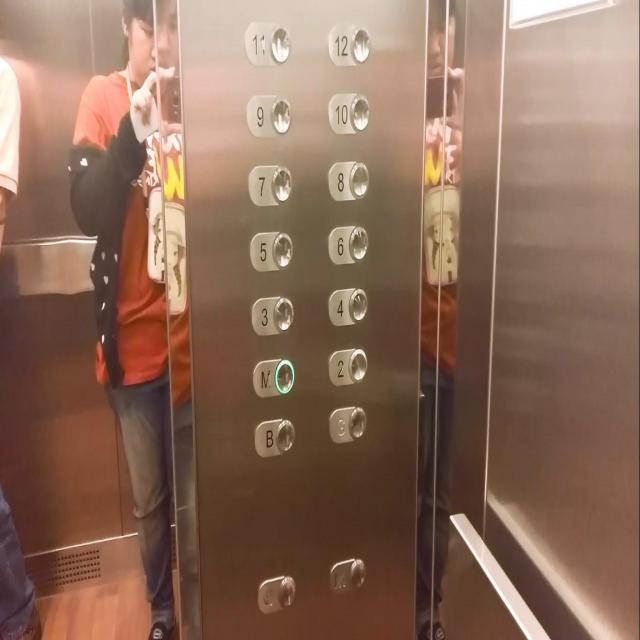10: (325, 90, 371, 137)
11: (242, 17, 292, 68)
12: (327, 18, 372, 68)
2: (325, 346, 369, 388)
3: (249, 294, 294, 338)
4: (325, 286, 369, 328)
5: (247, 228, 293, 274)
6: (325, 222, 369, 266)
7: (245, 162, 294, 208)
8: (325, 158, 370, 202)
9: (243, 91, 293, 140)
B: (252, 414, 296, 460)
G: (326, 402, 366, 447)
M: (250, 357, 295, 399)
close: (327, 556, 367, 599)
open: (254, 571, 297, 617)
